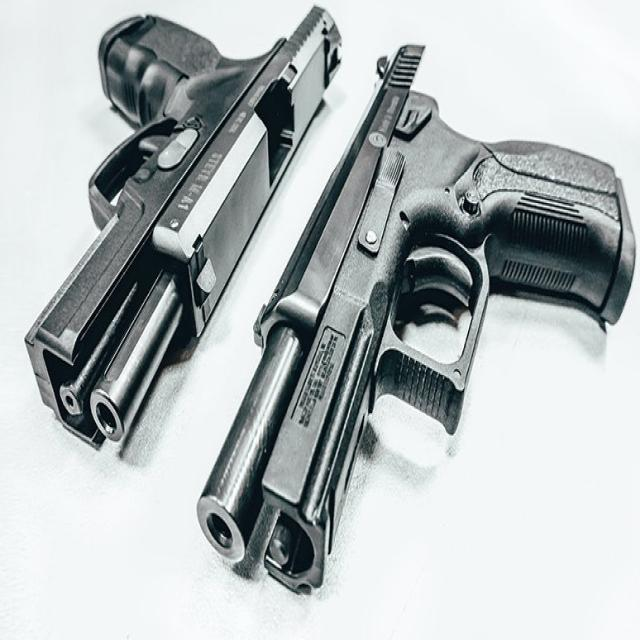Weapon: (198, 45, 634, 591), (25, 7, 341, 447)
